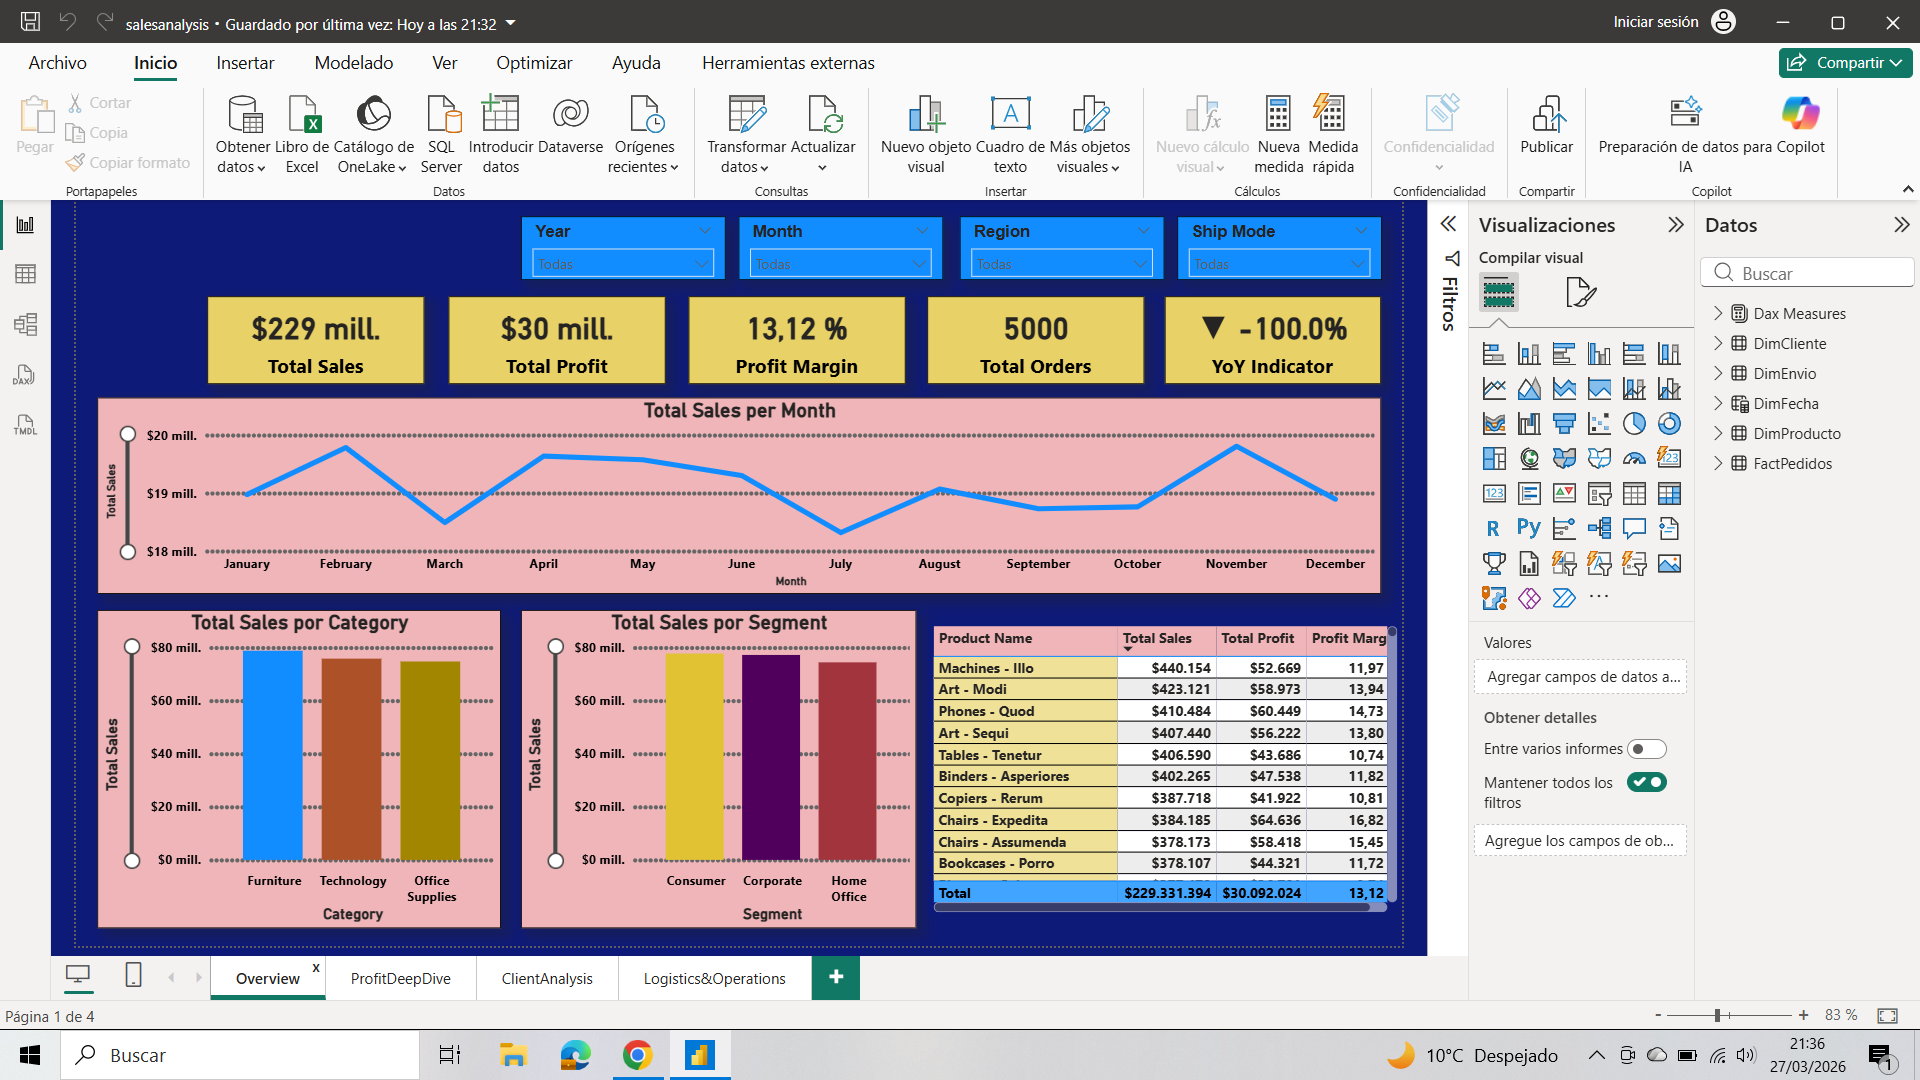

The page's visual inventory and layout, read from the dashboard file:
{"tool":"powerbi","page":{"name":"Overview","canvas":[1280,720],"ordinal":0},"visuals":[{"type":"slicer","fields":{"Values":["DimFecha.Year"]},"box":[429.5,15.1,197.6,61.7],"z":0},{"type":"slicer","fields":{"Values":["DimFecha.MonthName"]},"box":[639.5,15.1,197.6,61.7],"z":1000},{"type":"slicer","fields":{"Values":["DimCliente.Region"]},"box":[853.5,15.1,197.6,61.7],"z":2000},{"type":"slicer","fields":{"Values":["DimEnvio.Ship Mode"]},"box":[1063.5,15.1,197.6,61.7],"z":3000},{"type":"card","fields":{"Values":["Dax Measures.Total Sales"]},"box":[126.2,93.3,209.9,85.1],"z":4000},{"type":"card","fields":{"Values":["Dax Measures.Total Profit"]},"box":[359.5,93.3,209.9,85.1],"z":5000},{"type":"card","fields":{"Values":["Dax Measures.Profit Margin"]},"box":[591.4,93.3,209.9,85.1],"z":6000},{"type":"card","fields":{"Values":["Dax Measures.Total Orders"]},"box":[822,93.3,209.9,85.1],"z":7000},{"type":"card","fields":{"Values":["Dax Measures.YoY Indicator"]},"box":[1051.1,93.3,208.6,85.1],"z":8000},{"type":"lineChart","title":"Total Sales per Month","fields":{"Category":["DimFecha.MonthName"],"Y":["Dax Measures.Total Sales"]},"box":[20.6,190.7,1239.1,189.4],"z":9000},{"type":"columnChart","fields":{"Category":["DimProducto.Category"],"Y":["Dax Measures.Total Sales"]},"box":[20.6,395.2,389.7,307.4],"z":10000},{"type":"columnChart","fields":{"Category":["DimCliente.Segment"],"Y":["Dax Measures.Total Sales"]},"box":[429.5,395.2,381.5,307.4],"z":11000},{"type":"tableEx","fields":{"Values":["DimProducto.Product Name","Dax Measures.Total Sales","Dax Measures.Total Profit","Dax Measures.Profit Margin"]},"box":[822,406.2,458.3,285.4],"z":12000}]}

Visuals, with their boxes on the page's 1280x720 design canvas (x1, y1, x2, y2). These are canvas units, not pixel positions in the 1920x1080 screenshot, which may show the page scaled, cropped or inside an application window:
slicer - DimFecha.Year: 430:15:627:77
slicer - DimFecha.MonthName: 640:15:837:77
slicer - DimCliente.Region: 854:15:1051:77
slicer - DimEnvio.Ship Mode: 1064:15:1261:77
card - Dax Measures.Total Sales: 126:93:336:178
card - Dax Measures.Total Profit: 360:93:569:178
card - Dax Measures.Profit Margin: 591:93:801:178
card - Dax Measures.Total Orders: 822:93:1032:178
card - Dax Measures.YoY Indicator: 1051:93:1260:178
"Total Sales per Month" lineChart: 21:191:1260:380
columnChart - DimProducto.Category x Dax Measures.Total Sales: 21:395:410:703
columnChart - DimCliente.Segment x Dax Measures.Total Sales: 430:395:811:703
tableEx - DimProducto.Product Name x Dax Measures.Total Sales: 822:406:1280:692
